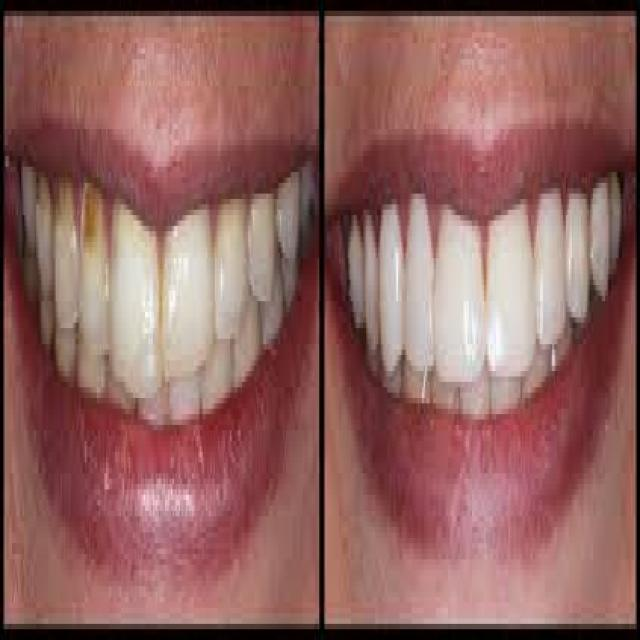tooth: (104, 188, 162, 404), (431, 194, 486, 387), (481, 199, 539, 382), (160, 210, 213, 387), (528, 167, 567, 366), (212, 194, 251, 355), (401, 188, 434, 376), (76, 167, 109, 355), (375, 194, 409, 376), (246, 172, 278, 312), (53, 183, 80, 339), (563, 178, 591, 328)
